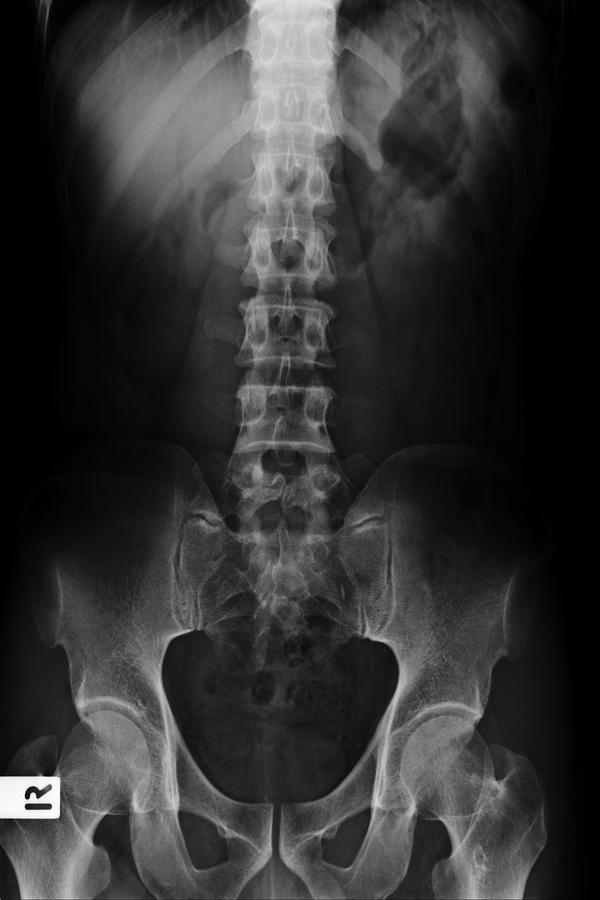not lumbar scoliosis: (218, 182, 367, 535)
